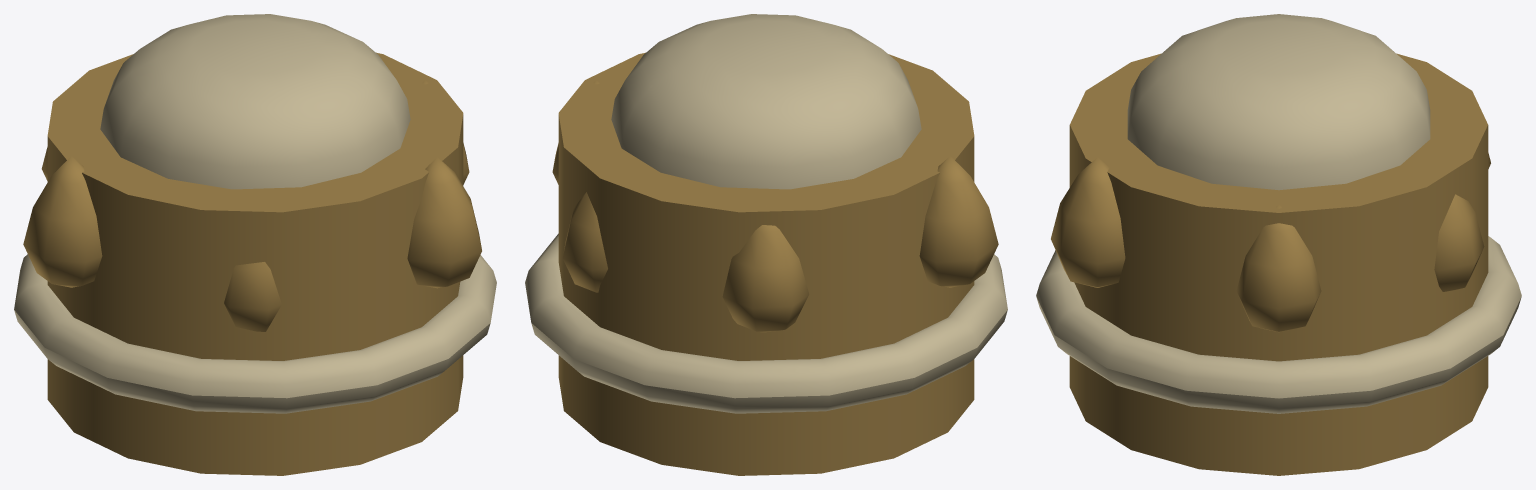
The model's file is coral_mail.obj.
3 renders of one model, left to right at view 1: azimuth 30°, elevation 25°; view 2: azimuth 150°, elevation 25°; view 3: azimuth 270°, elevation 25°, orthographic.
Parts seen in each view (by area): view 1: coral_mail; view 2: coral_mail; view 3: coral_mail.
Boxes of the visible parts, box(x1,y1,x2,y2) form: coral_mail: box(14, 14, 496, 475); coral_mail: box(525, 14, 1007, 475); coral_mail: box(1036, 14, 1521, 475).
Bounding box in the file's own units: 1.48 × 1.12 × 1.44.
